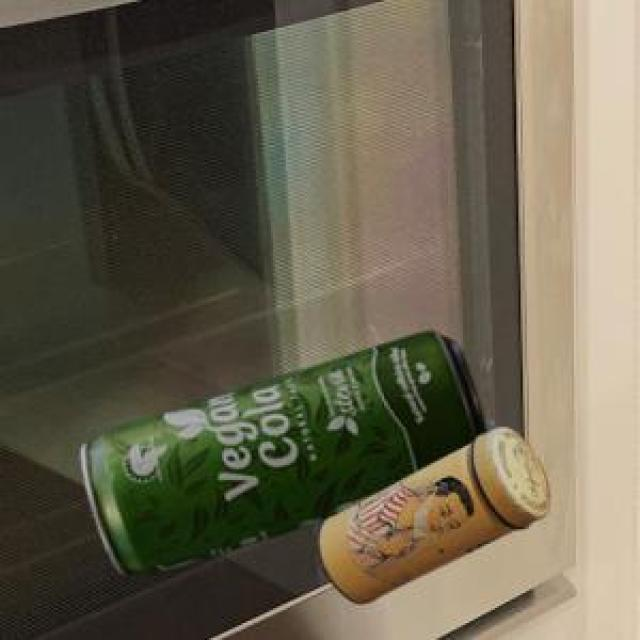logam: (78, 327, 483, 573), (315, 423, 547, 601)
